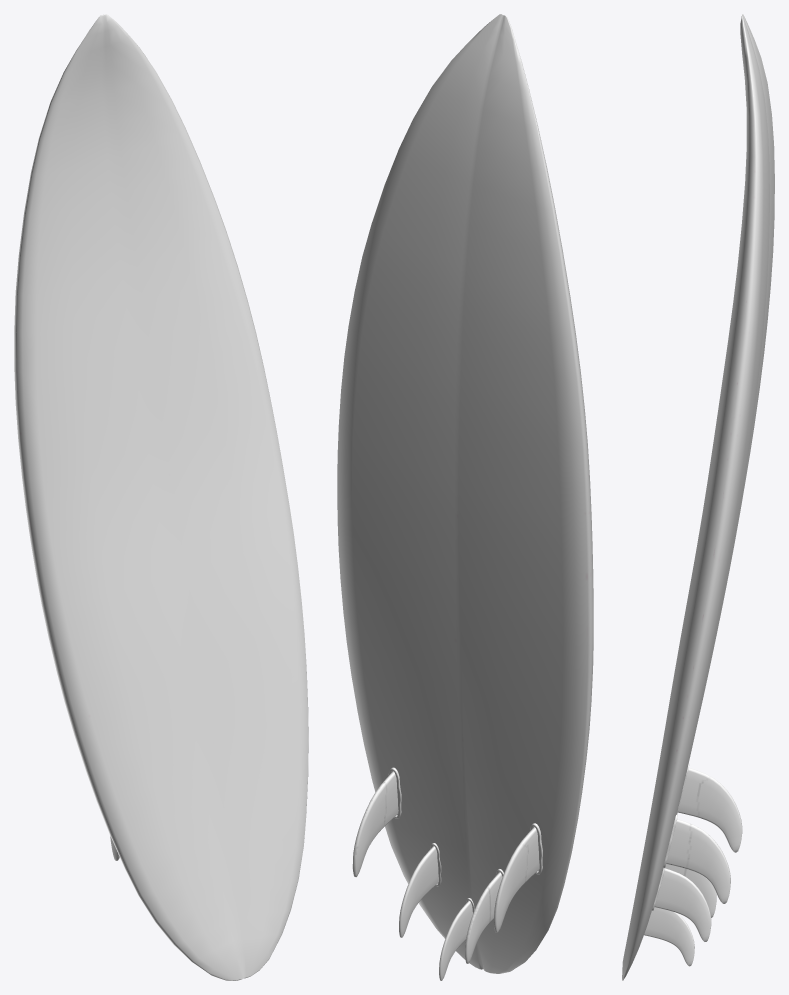
File: prancha.glb
3 renders of one model, left to right at view 1: azimuth 30°, elevation 25°; view 2: azimuth 150°, elevation 25°; view 3: azimuth 270°, elevation 25°, orthographic. The views are drawn at different scales.
Parts seen in each view (by area): view 1: node_id5; view 2: node_id5; view 3: node_id5.
Part boxes in pixels (bbox=[...]): node_id5: bbox=[14, 14, 308, 980]; node_id5: bbox=[337, 14, 593, 980]; node_id5: bbox=[622, 14, 774, 980].
Size of the model in its own units: 0.1423 by 0.5078 by 0.0761.
Materials: 1 (1 with a texture image).
